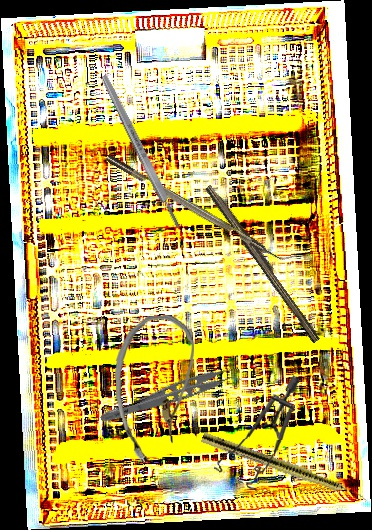Cannula: (112, 314, 200, 463)
Chopper: (105, 145, 298, 271)
Handpiece: (199, 431, 371, 505)
Scalpel Handle: (202, 182, 325, 344), (99, 73, 183, 230)
Speculum: (212, 369, 300, 495)
Tissue Forceps: (98, 359, 244, 436)
